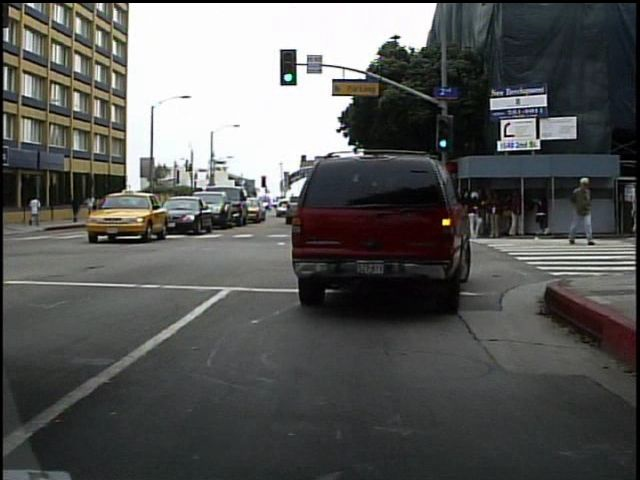person: (567, 169, 596, 248), (26, 193, 44, 229)
